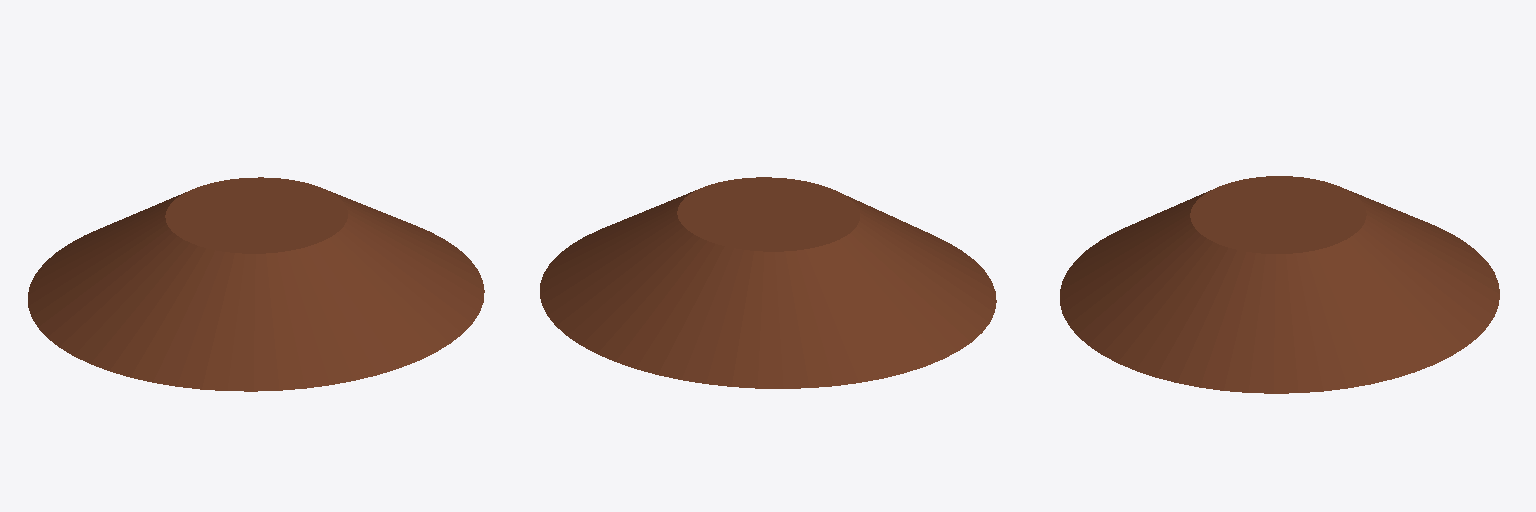
File: stone.obj
The picture shows the model from 3 angles: view 1: azimuth 30°, elevation 25°; view 2: azimuth 150°, elevation 25°; view 3: azimuth 270°, elevation 25°; orthographic projection.
Visible parts, largest first — view 1: Object_2_Object_0; view 2: Object_2_Object_0; view 3: Object_2_Object_0.
Boxes of the visible parts, x1=… form: Object_2_Object_0: x1=28, y1=177, x2=484, y2=391; Object_2_Object_0: x1=540, y1=177, x2=996, y2=388; Object_2_Object_0: x1=1060, y1=176, x2=1499, y2=393.
Bounding box in the file's own units: 9.69 × 1.92 × 9.23.